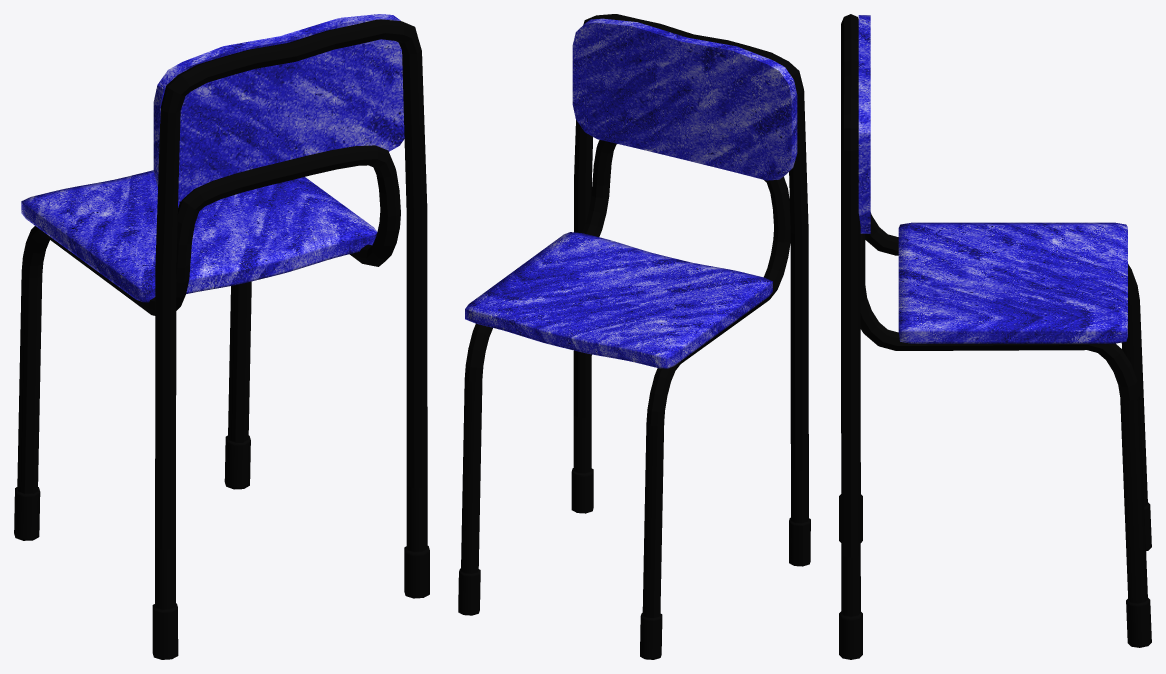
The model's file is chair.FBX.
3 renders of one model, left to right at view 1: azimuth 30°, elevation 25°; view 2: azimuth 150°, elevation 25°; view 3: azimuth 270°, elevation 25°, orthographic. The views are drawn at different scales.
Visible parts, largest first — view 1: chair; view 2: chair; view 3: chair.
Boxes of the visible parts, x1,y1,x2,y2 form: chair: (14,14,429,659); chair: (458,14,810,659); chair: (839,14,1151,659).
Size of what is drawn, in the model's own units: 5495 by 11155 by 5844.
